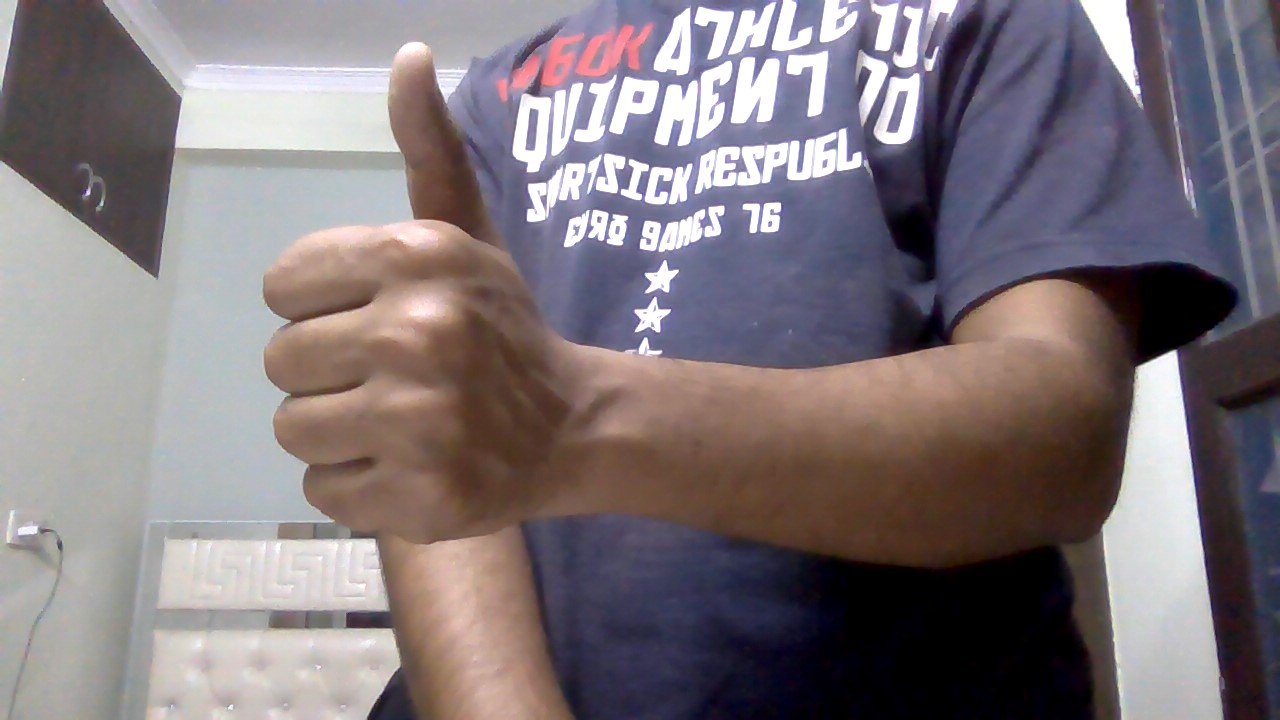Save: (248, 27, 577, 578)
